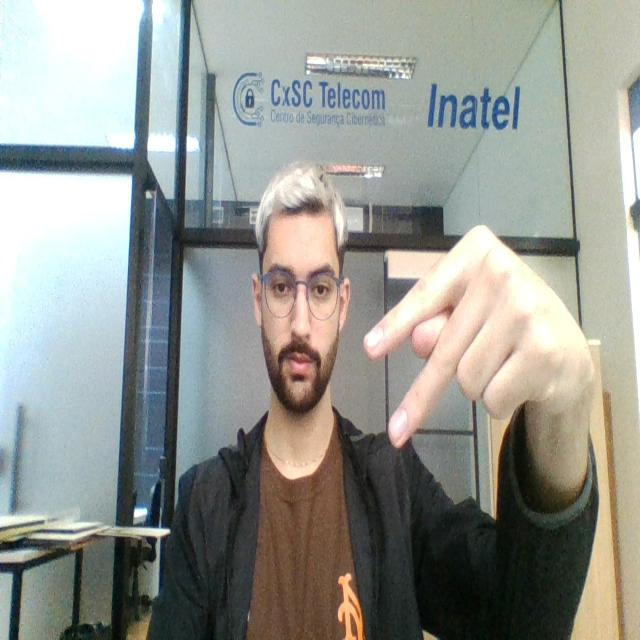P: (365, 215, 594, 475)
